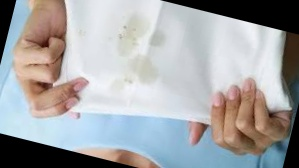oil: (111, 6, 149, 61), (122, 52, 166, 91), (106, 68, 139, 99), (143, 27, 166, 48), (72, 25, 89, 41)
